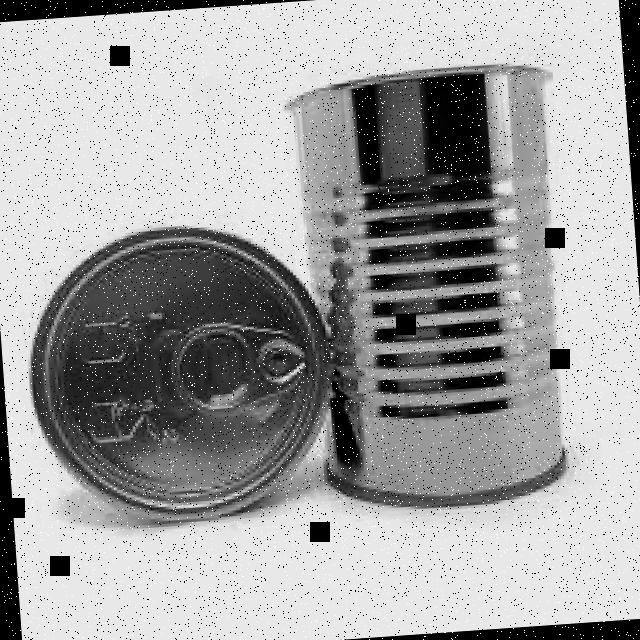can: (282, 60, 574, 519), (19, 217, 340, 529)
